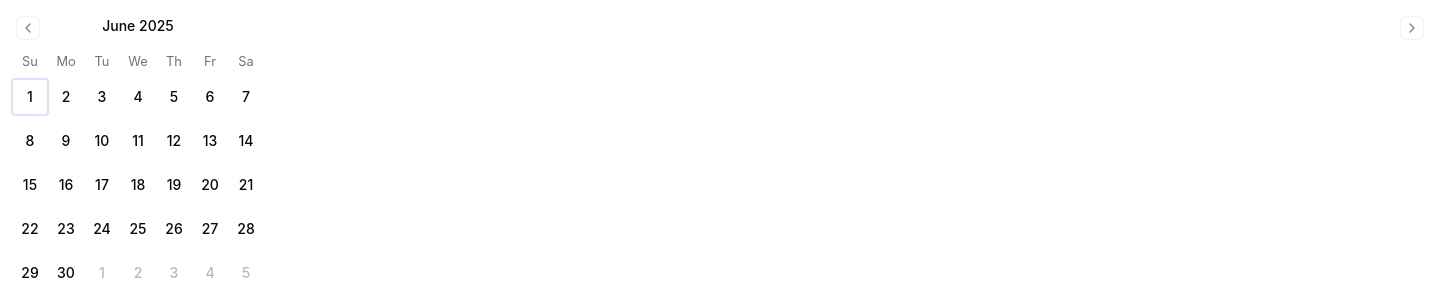
Calendar › clicking next-month nav advances the displayed month
Check: the text "June 2025" is shown, box [102, 16, 174, 36]
Click the button named "next month": click(1412, 28) [1400, 16, 1424, 40]
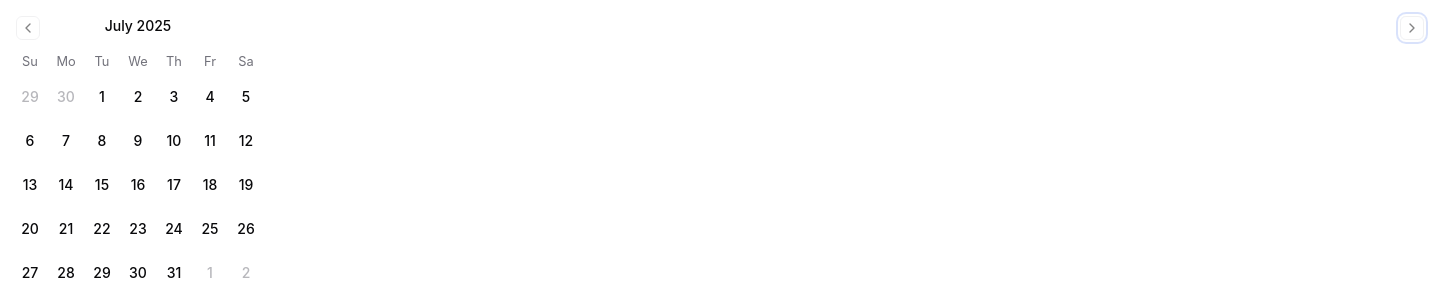
Check: the text "July 2025" is shown, box [105, 16, 171, 36]
